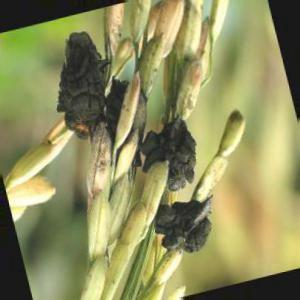Leaf_Scald: (58, 27, 110, 150), (143, 110, 192, 191), (160, 201, 208, 254)
